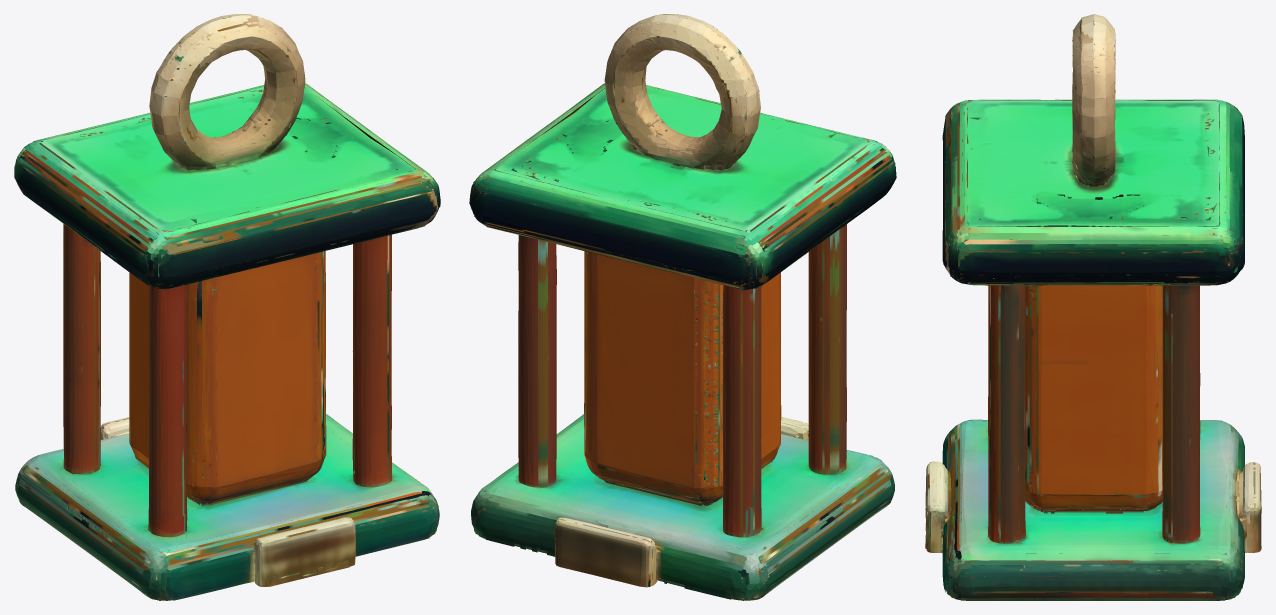
File: trellis-lantern-trimmed.glb
3 views of the same model, side by side, from view 1: azimuth 30°, elevation 25°; view 2: azimuth 150°, elevation 25°; view 3: azimuth 270°, elevation 25° (orthographic).
Parts seen in each view (by area): view 1: Mesh_0; view 2: Mesh_0; view 3: Mesh_0.
Boxes of the visible parts, <box> form: Mesh_0: <box>14,14,440,600</box>; Mesh_0: <box>469,14,896,600</box>; Mesh_0: <box>925,14,1261,600</box>.
Bounding box in the file's own units: 0.1983 × 0.3179 × 0.191.
1 material, 1 textured.
